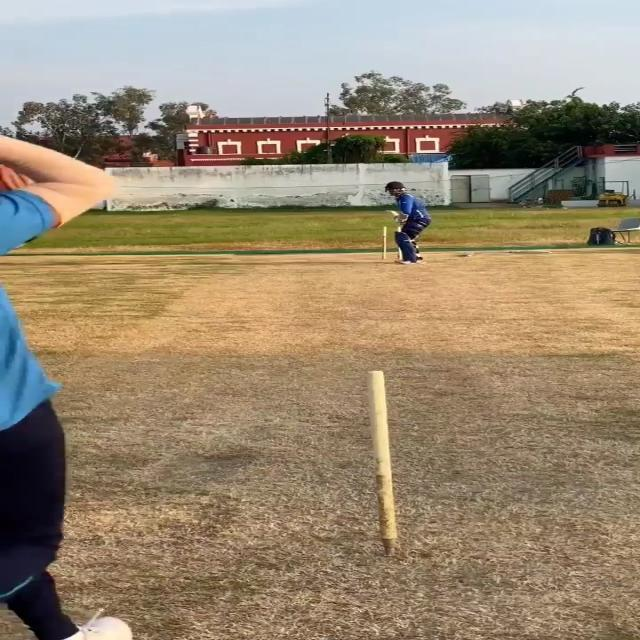stump: (348, 370, 423, 557), (382, 226, 403, 260)
